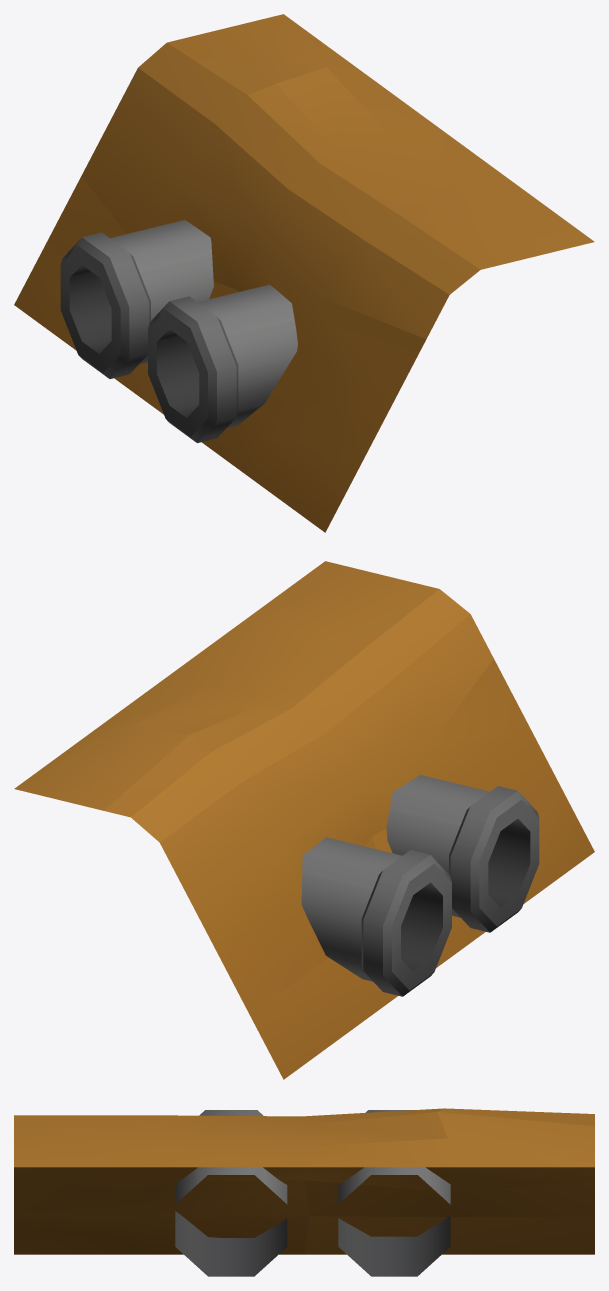
Rendered from cGround_B_Side_3_.glb.
3 views of the same model, one above another, from view 1: azimuth 30°, elevation 25°; view 2: azimuth 150°, elevation 25°; view 3: azimuth 270°, elevation 25° (orthographic). The views are drawn at different scales.
Parts seen in each view (by area): view 1: cGround_B_Side_3; view 2: cGround_B_Side_3; view 3: cGround_B_Side_3.
Part boxes in pixels (left/top/right/bottom): cGround_B_Side_3: left=14, top=14, right=594, bottom=532; cGround_B_Side_3: left=14, top=561, right=594, bottom=1079; cGround_B_Side_3: left=14, top=1108, right=594, bottom=1276.
Size of the model in its own units: 4.46 by 3.4 by 8.
1 material, 1 textured.
